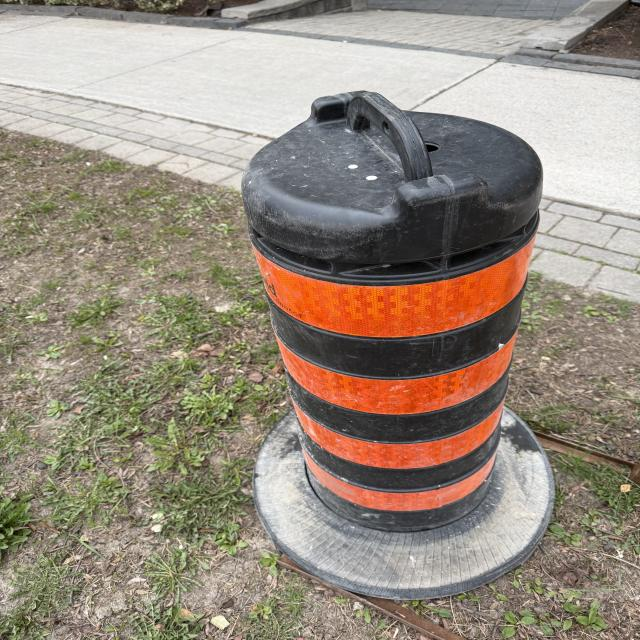Teraffic Barrel: (242, 92, 553, 597)
